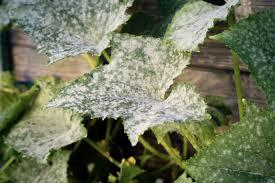powdery_mildew: (6, 0, 273, 172)
